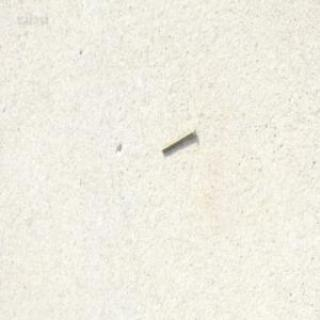Bolttrack_idkeyframe: (160, 124, 194, 154)
